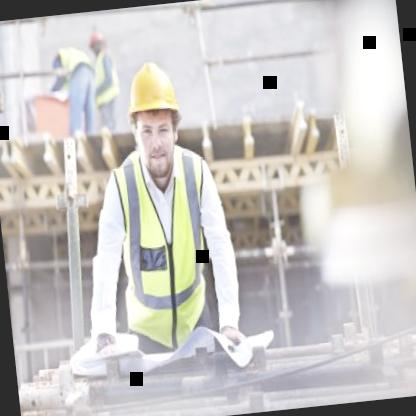helmet: (116, 44, 194, 180), (85, 26, 108, 61)
